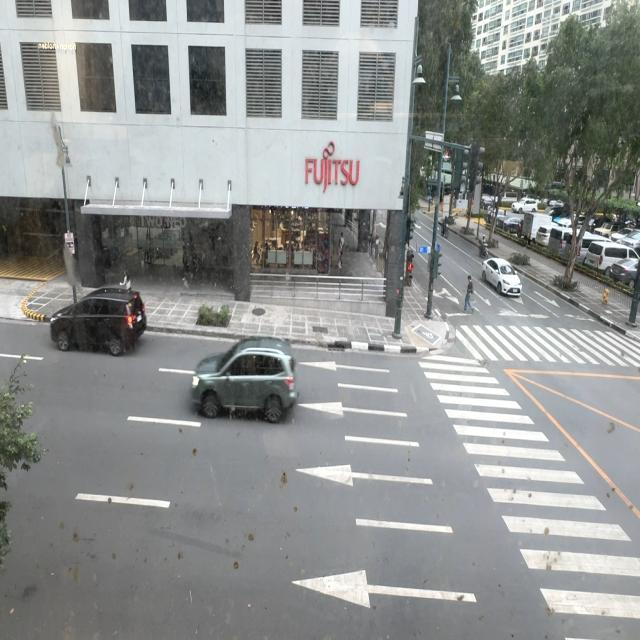jaywalking: (464, 274, 477, 312)
